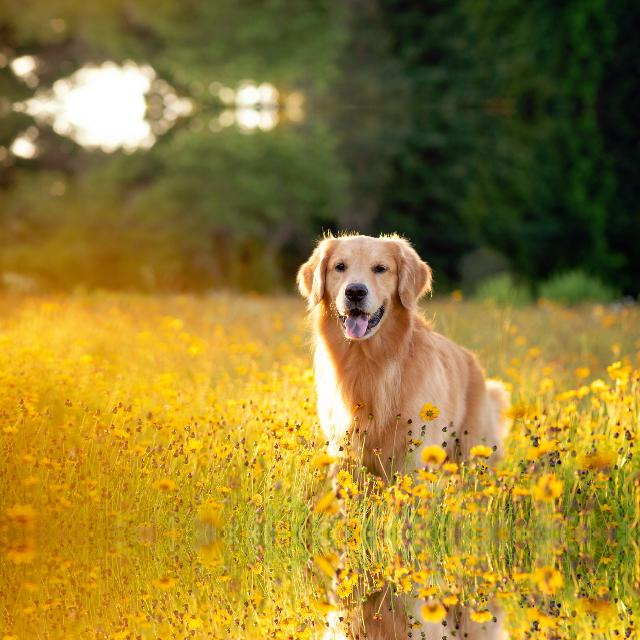dog: (294, 215, 522, 472), (294, 594, 521, 640)
